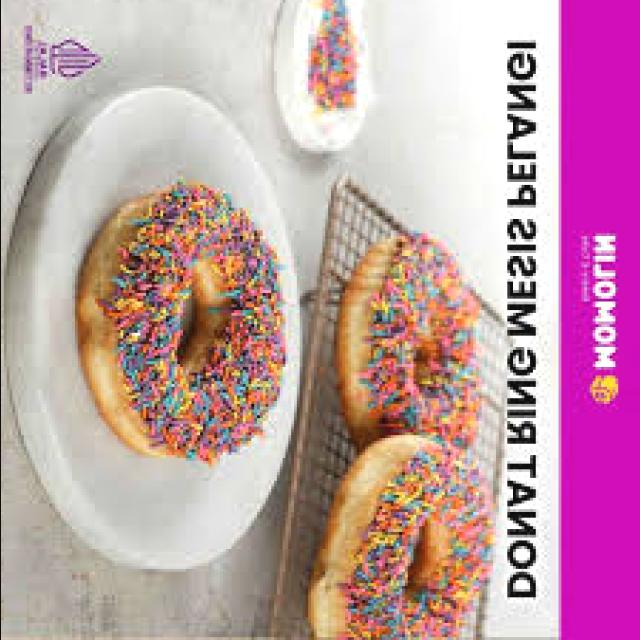donat: (74, 182, 284, 466)
